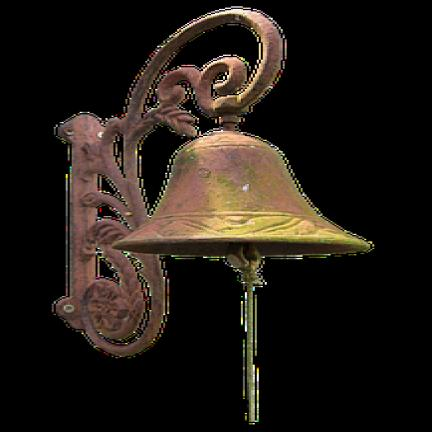karat: (58, 8, 370, 355)
